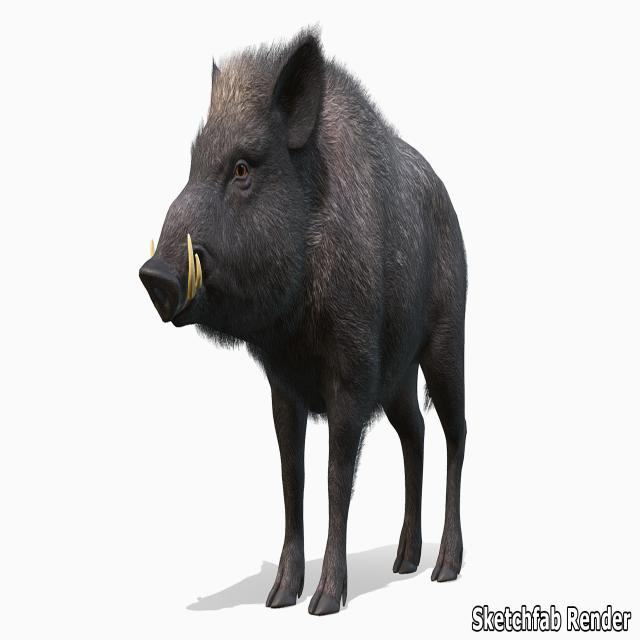Boar: (137, 19, 468, 605)
